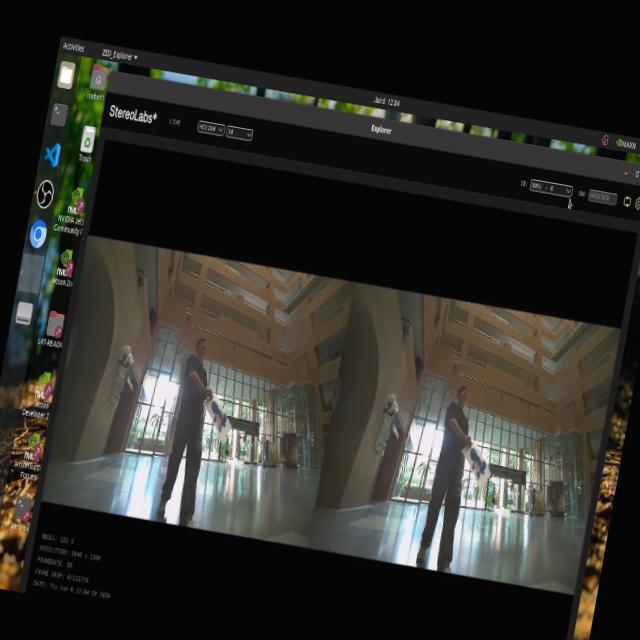blue: (459, 442, 490, 475), (206, 398, 231, 434)
